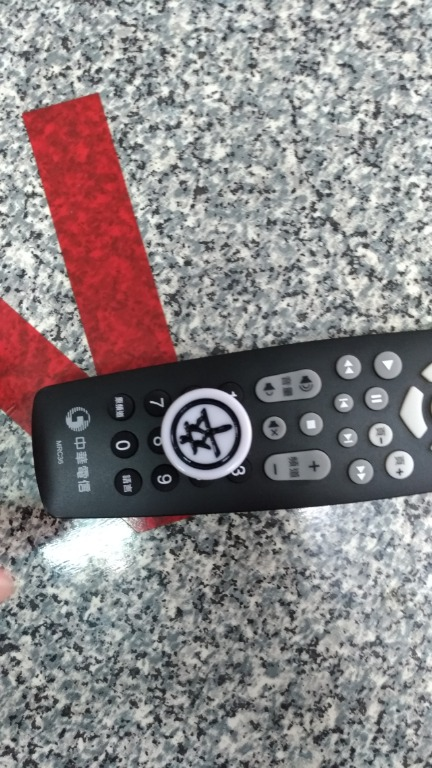b-pawn: (154, 378, 279, 508)
